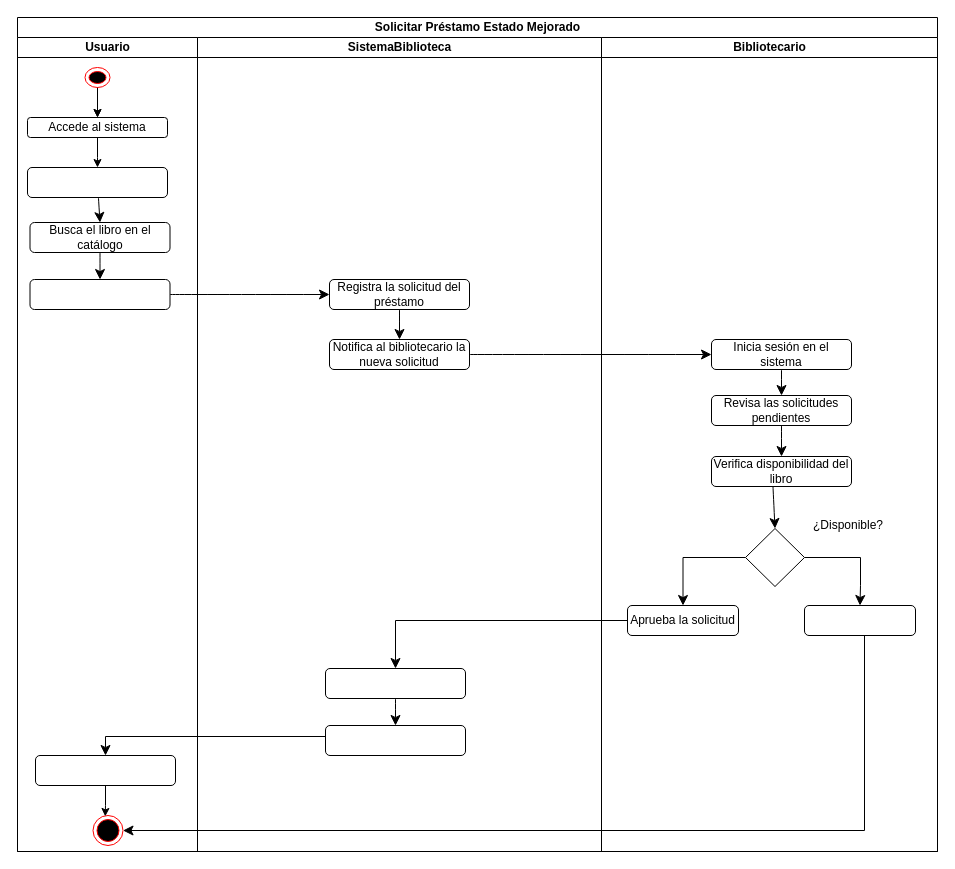
The diagram is 955 pixels wide and 869 high, and some of its shapes have lost their labels. The shapes that lost their labels are listed below. From the top down, each one's centre as x and y in pixels, then its label:
point (97, 182): Inicia sesión con su cuenta
point (99, 294): Enviar solicitud de préstamo
point (860, 620): Rechaza la solicitud
point (395, 683): Actualiza estado del libro a "prestado"
point (395, 740): Notifica al usuario
point (105, 770): Lee la notificación del sistema
